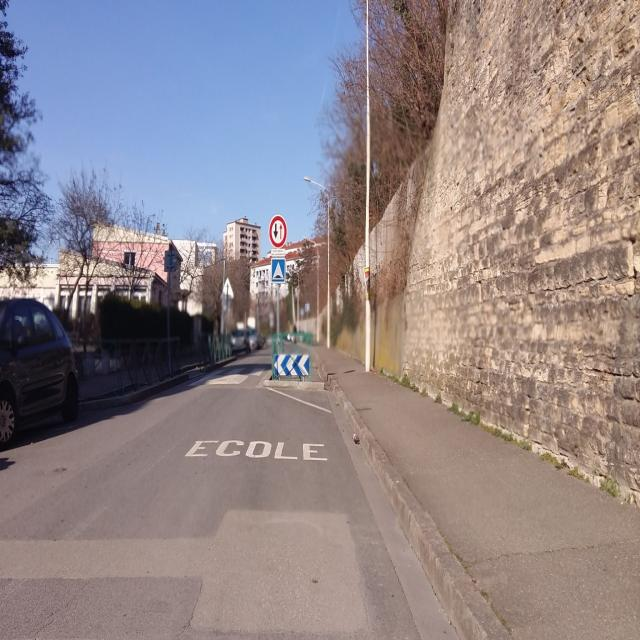car: (0, 294, 80, 452), (230, 328, 250, 354), (248, 328, 264, 351)
